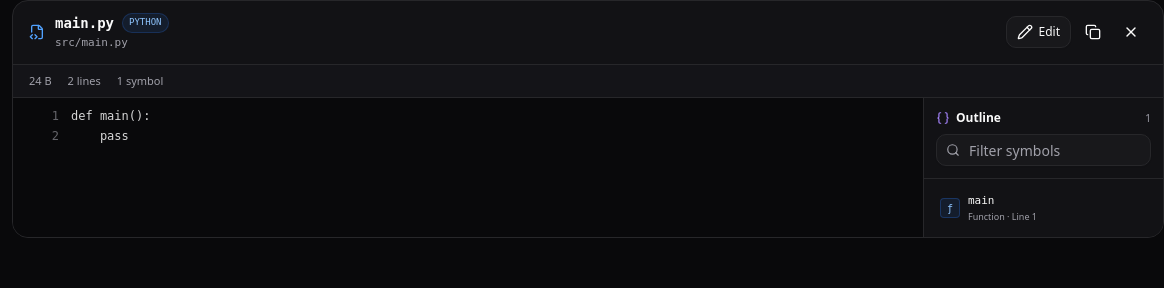
FileInspector › keeps drafts after network errors and distinguishes an outline refresh failure
Expected: the text "def main():" is shown, [71, 109, 150, 123]
Step 1. Click the button "Edit" → (1038, 32), box [1006, 16, 1071, 48]
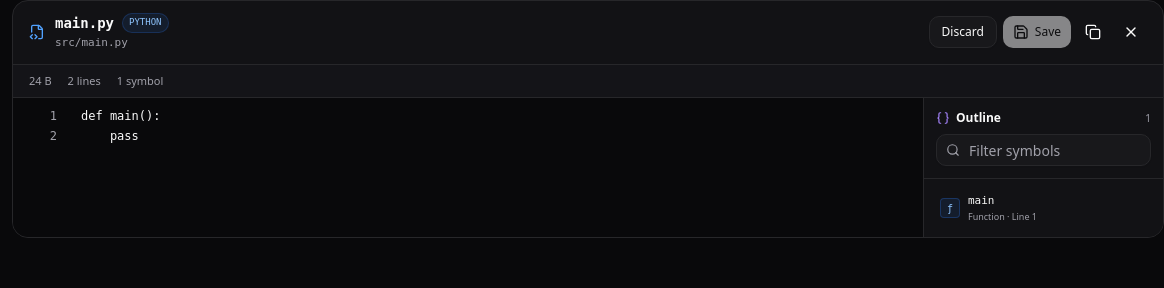
Step 2. Replace the text in the text box named "Edit main.py" with "my edits" → (496, 168), box [69, 98, 923, 237]
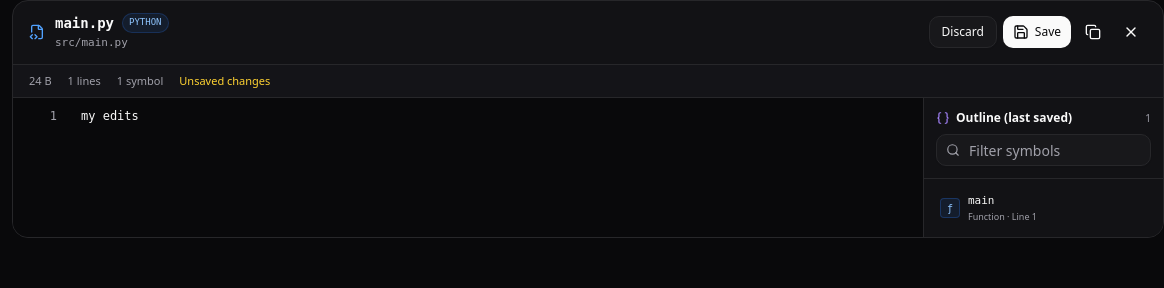
Step 3. Press s in the text box named "Edit main.py", box [69, 98, 923, 237]
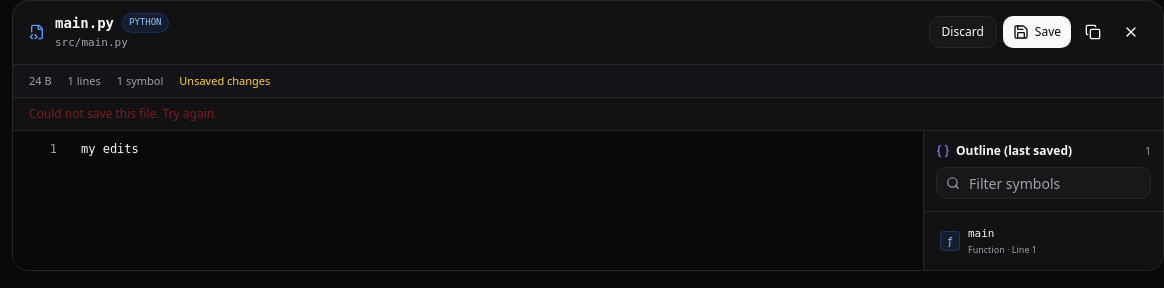
Expected: the message "Could not save this file. Try again." is shown, [13, 98, 1163, 131]
Step 4. Click the button "Save" → (1037, 32), box [1003, 16, 1071, 48]
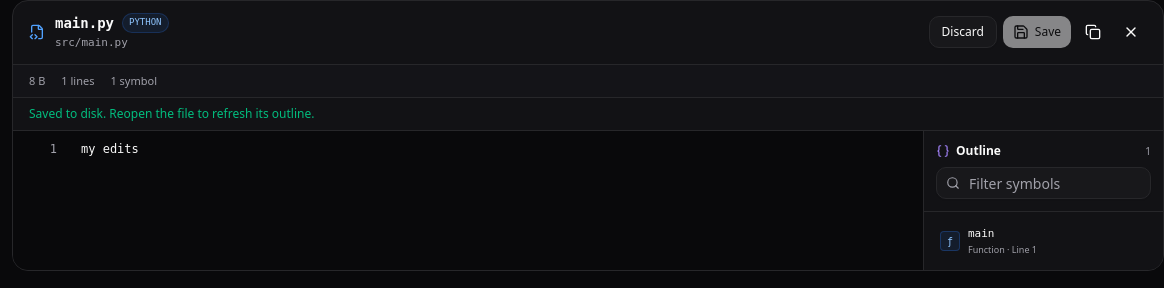
Expected: the text "Saved to disk. Reopen the file to refresh its outline." is shown, [13, 98, 1163, 131]
Expected: the text "Unsaved changes" is gone
